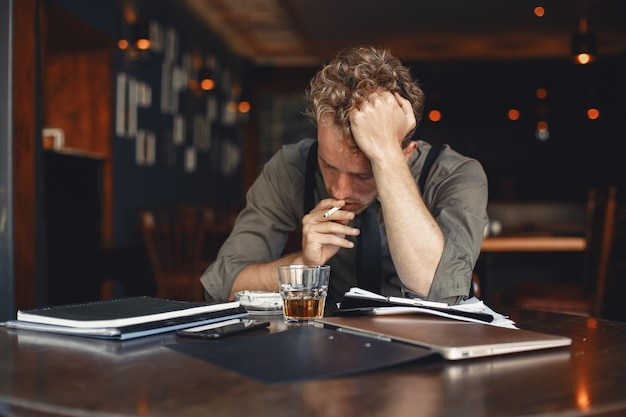alcohol: (275, 263, 331, 328)
